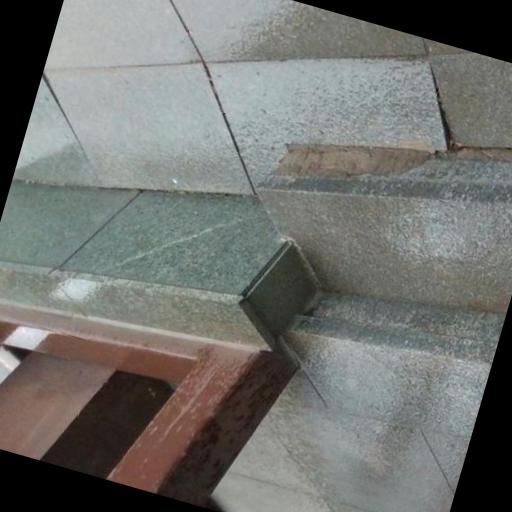stairs: (260, 146, 511, 434)
